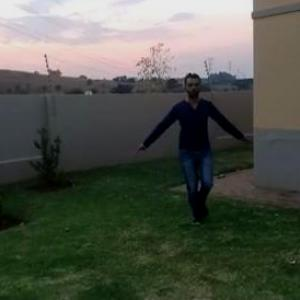land: (135, 74, 241, 210)
